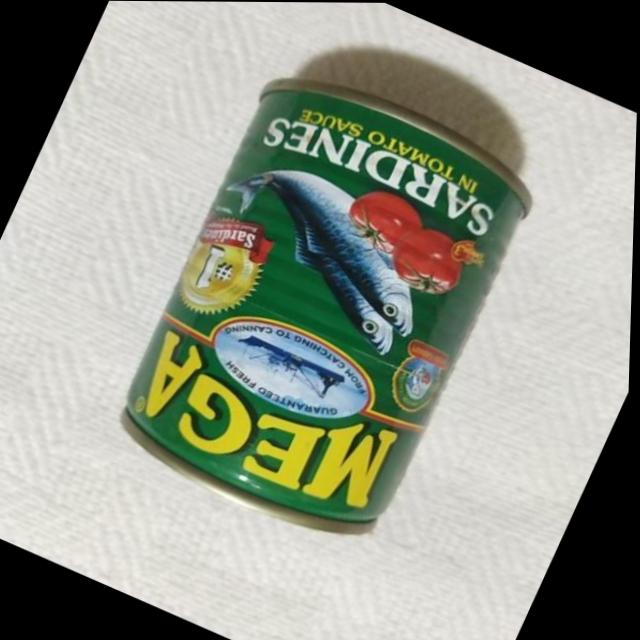metal: (98, 51, 551, 563)
